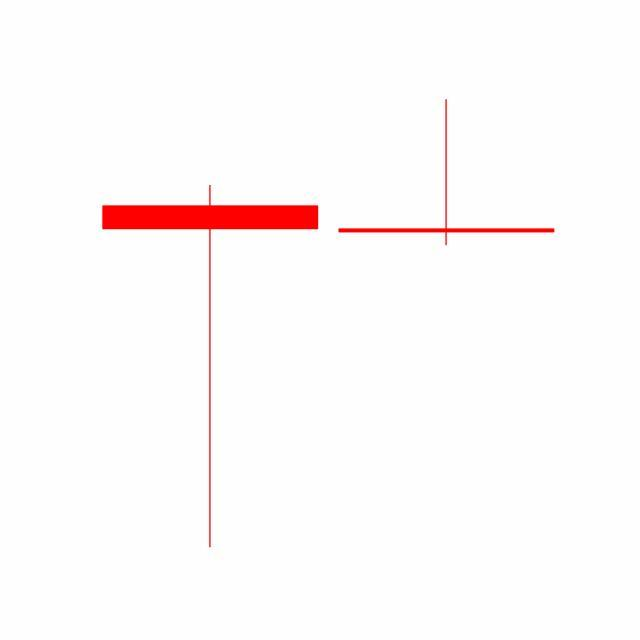Spinning Top: (328, 98, 566, 248)
